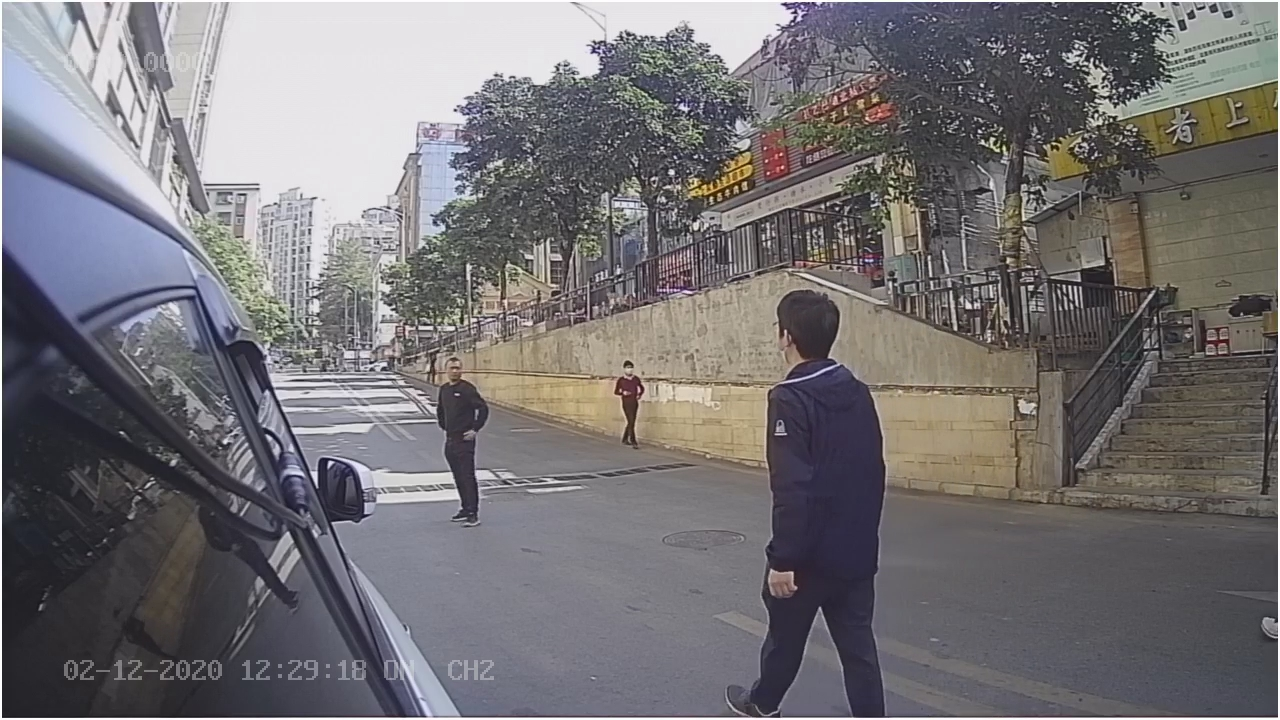person: (741, 285, 909, 599), (428, 346, 502, 537)
